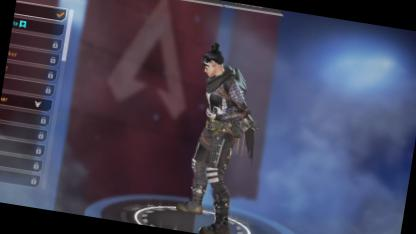Target: (177, 38, 265, 210)
